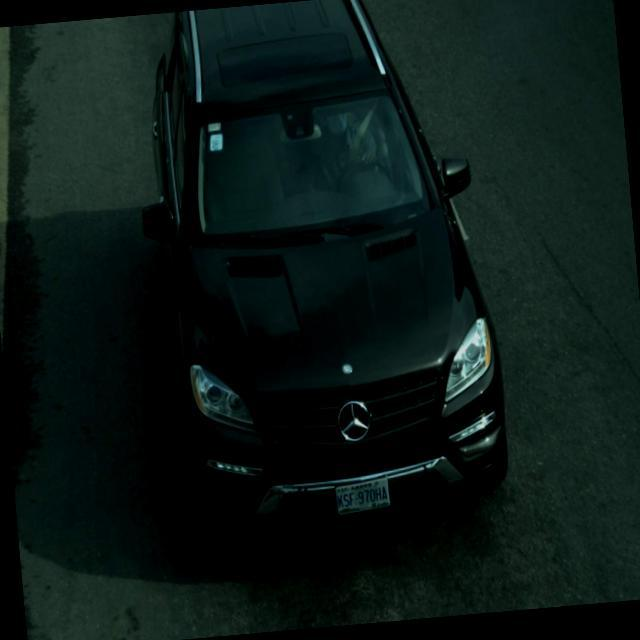windshield: (172, 72, 455, 271)
